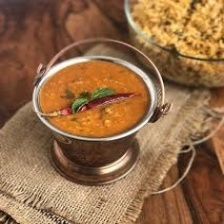dal: (34, 56, 153, 140)
